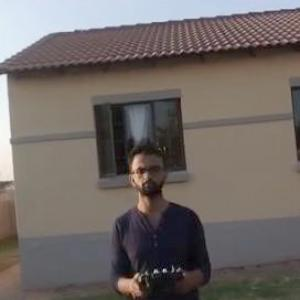follow: (103, 137, 214, 299)
